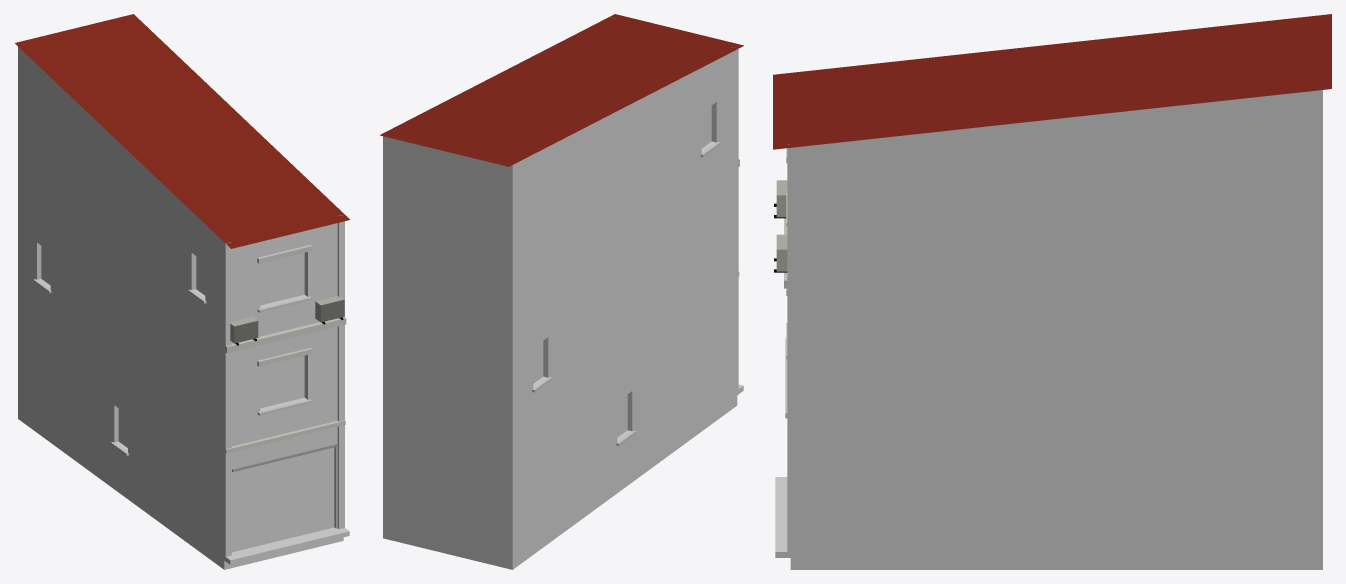
3 views of the same model, side by side, from view 1: azimuth 30°, elevation 25°; view 2: azimuth 150°, elevation 25°; view 3: azimuth 270°, elevation 25° (orthographic). The views are drawn at different scales.
Parts seen in each view (by area): view 1: TH_D12_L_13_LOD0; view 2: TH_D12_L_13_LOD0; view 3: TH_D12_L_13_LOD0.
Boxes of the visible parts, x1=… form: TH_D12_L_13_LOD0: x1=15, y1=14, x2=349, y2=569; TH_D12_L_13_LOD0: x1=380, y1=14, x2=743, y2=569; TH_D12_L_13_LOD0: x1=773, y1=14, x2=1331, y2=569.
Size of what is drawn, in the model's own units: 4.08 by 11.96 by 12.6.
